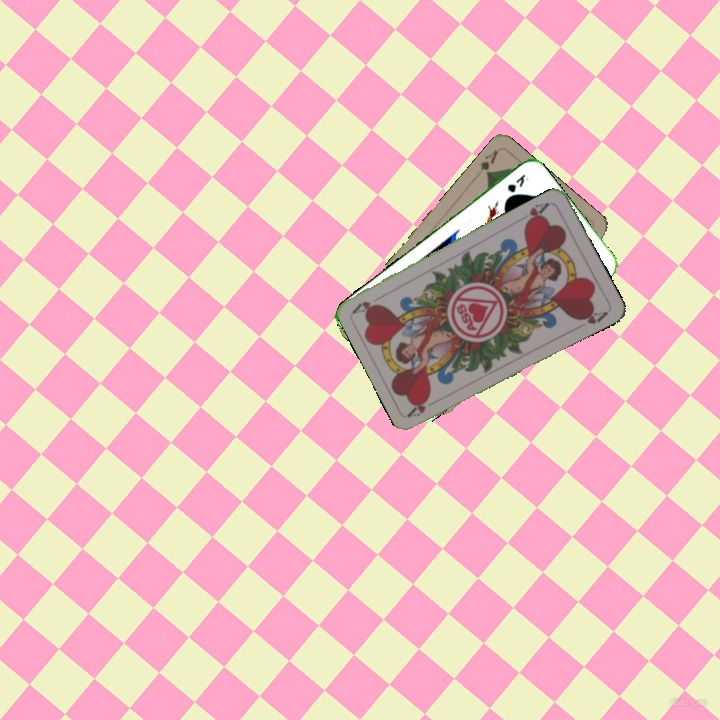GA: (476, 146, 501, 178)
GK: (503, 170, 531, 195)
HA: (405, 393, 443, 420), (520, 198, 552, 228)
